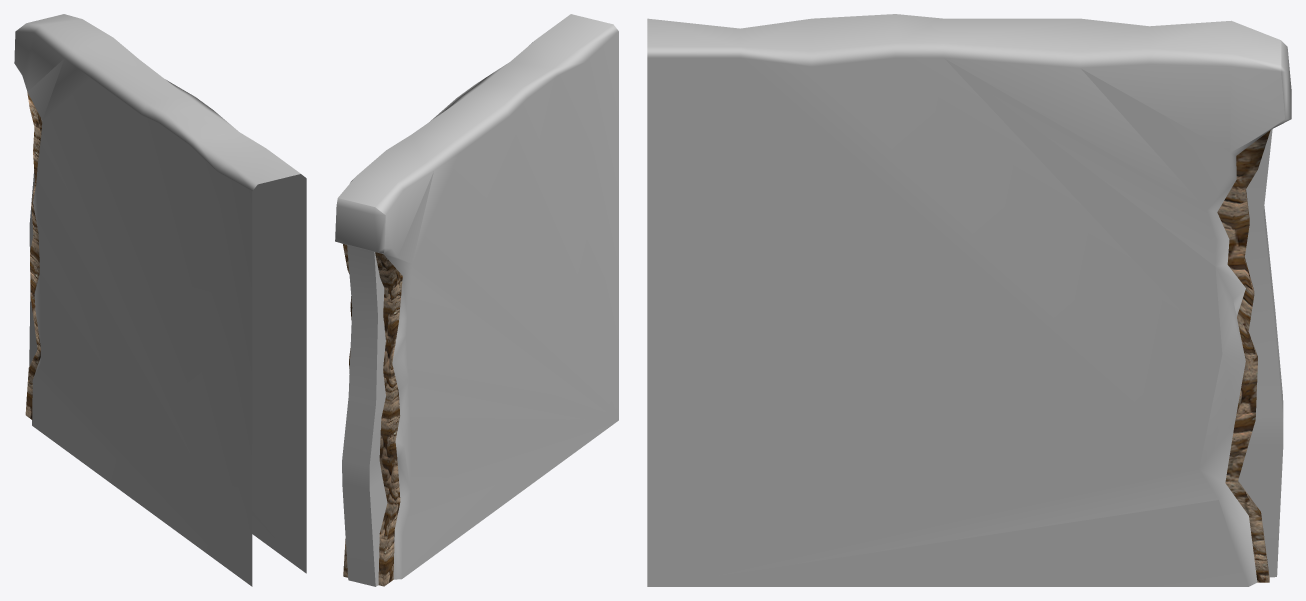
File: lower_city_wall_03.fbx
The picture shows the model from 3 angles, left to right: view 1: azimuth 30°, elevation 25°; view 2: azimuth 150°, elevation 25°; view 3: azimuth 270°, elevation 25°; orthographic projection. The views are drawn at different scales.
Parts seen in each view (by area): view 1: lower_city_wall_03; view 2: lower_city_wall_03; view 3: lower_city_wall_03.
Part boxes in pixels (bbox=[...]): lower_city_wall_03: bbox=[14, 14, 306, 586]; lower_city_wall_03: bbox=[335, 14, 618, 586]; lower_city_wall_03: bbox=[647, 14, 1291, 586].
Size of the model in its own units: 0.3577 by 2.55 by 2.75.
